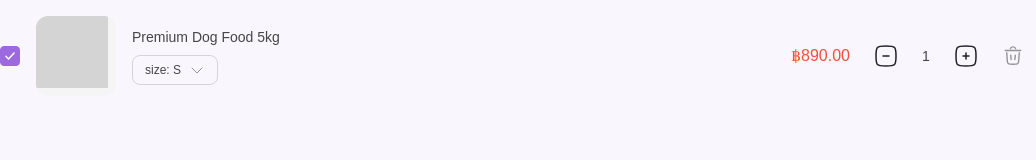
Scenario: CartItemRow quantity controls › accumulates rapid increment clicks to the final qty (SF-CART-020)
Click the button named "เพิ่มจำนวน".
click(966, 56)  # box x1=954 y1=44 x2=978 y2=68
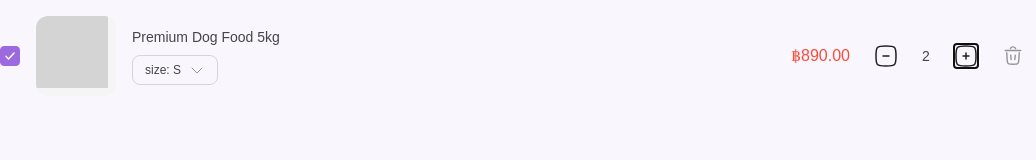
Click the button named "เพิ่มจำนวน".
click(966, 56)  # box x1=954 y1=44 x2=978 y2=68
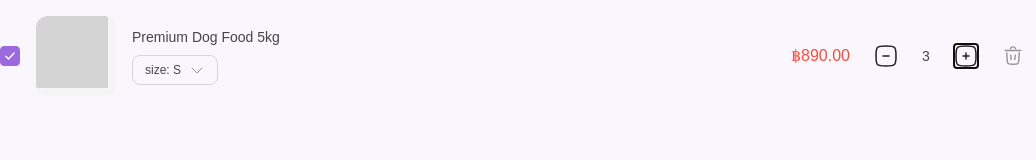
Click the button named "เพิ่มจำนวน".
click(966, 56)  # box x1=954 y1=44 x2=978 y2=68
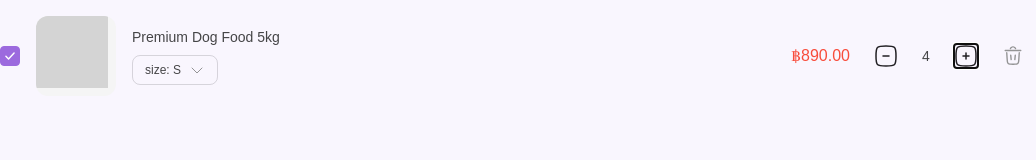
expect the text "4" is shown: met, box x1=922 y1=48 x2=930 y2=64
